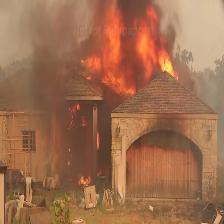fire: (70, 0, 188, 105), (55, 88, 117, 213)
smoke: (0, 5, 101, 106)
